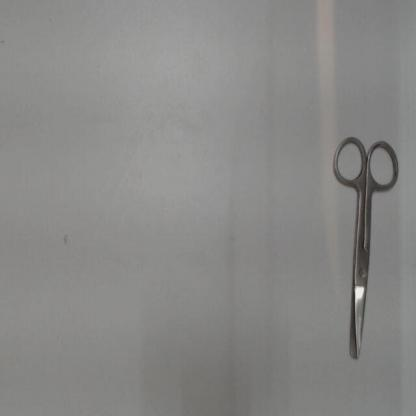Dressing Scissors: (326, 126, 405, 369)
